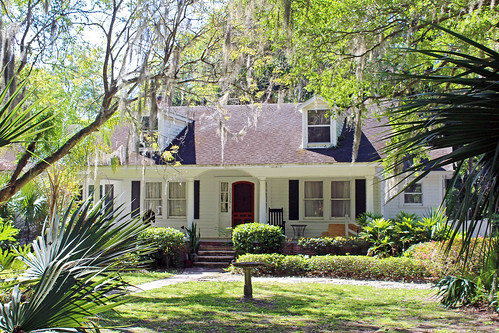medium: (76, 86, 452, 264)
